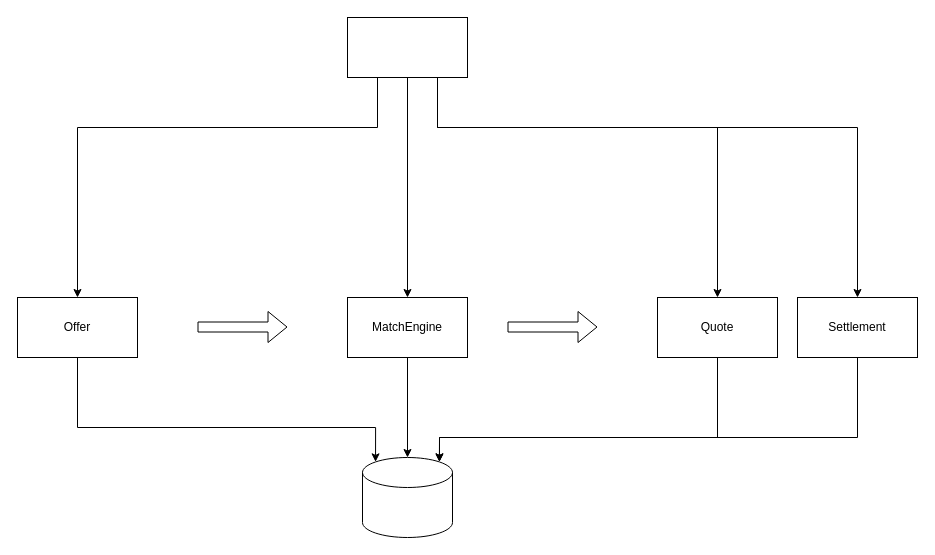
Image size: 935x555. Some labels were removed from this diagram. Here are the shapes that lost their labels. From the top down, the centre of each, then its label:
At (407,47): "Frontend".
At (407,497): "DB".
